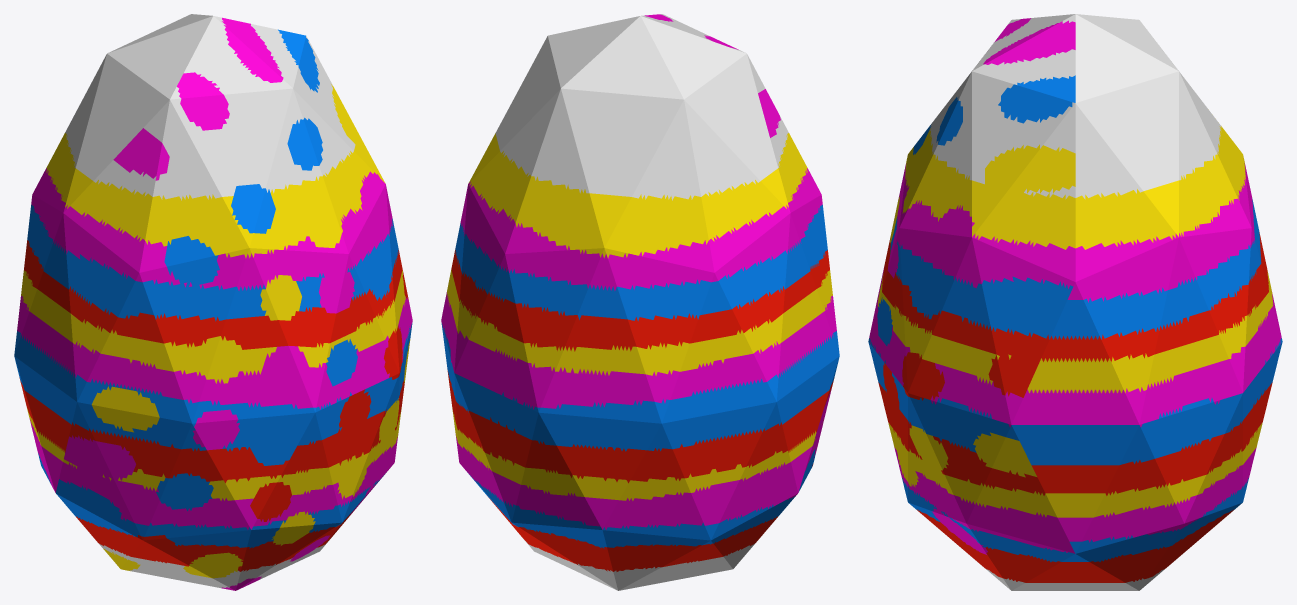
Rendered from Easter egg.fbx.
3 views of the same model, side by side, from view 1: azimuth 30°, elevation 25°; view 2: azimuth 150°, elevation 25°; view 3: azimuth 270°, elevation 25° (orthographic).
Visible parts, largest first — view 1: Icosphere; view 2: Icosphere; view 3: Icosphere.
Part boxes in pixels (bbox=[...]): Icosphere: bbox=[14, 14, 412, 590]; Icosphere: bbox=[441, 14, 839, 590]; Icosphere: bbox=[868, 14, 1282, 590].
Bounding box in the file's own units: 190 × 304 × 200.
